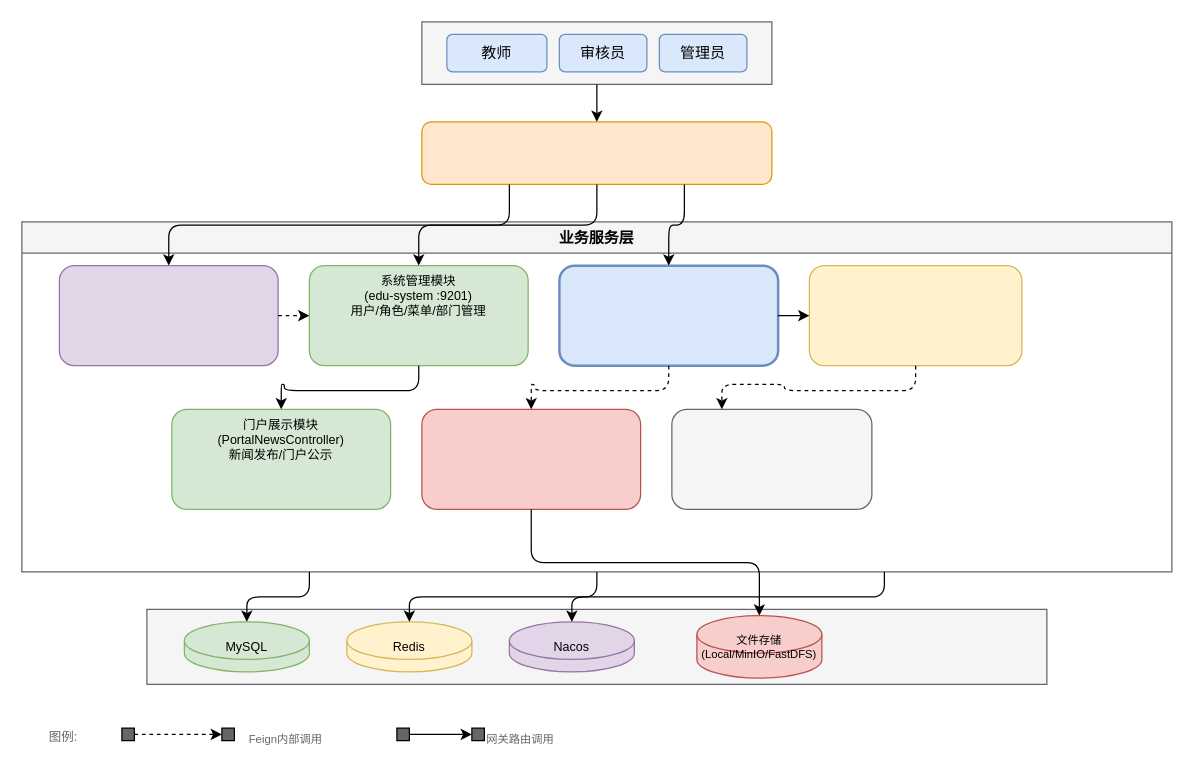
The diagram is 1194 pixels wide and 769 high, and some of its shapes have lost their labels. Here are the shapes that lost their labels. From the top down, the centre of each, then its label:
point (596, 152): API 网关 (Spring Cloud Gateway) AuthFilter + CORS
point (168, 315): 认证与权限模块 (edu-auth :9200) 登录/登出/令牌刷新
point (668, 315): 成果管理模块 (edu-achievement :9205) 成果CRUD/状态控制/导出
point (915, 315): 审核流程模块 (edu-achievement :9205) 审核处理/记录查询
point (531, 458): 文件服务模块 (edu-file :9300) 上传/下载/多后端存储
point (771, 458): 定时任务服务 (edu-job :9203) Quartz调度
